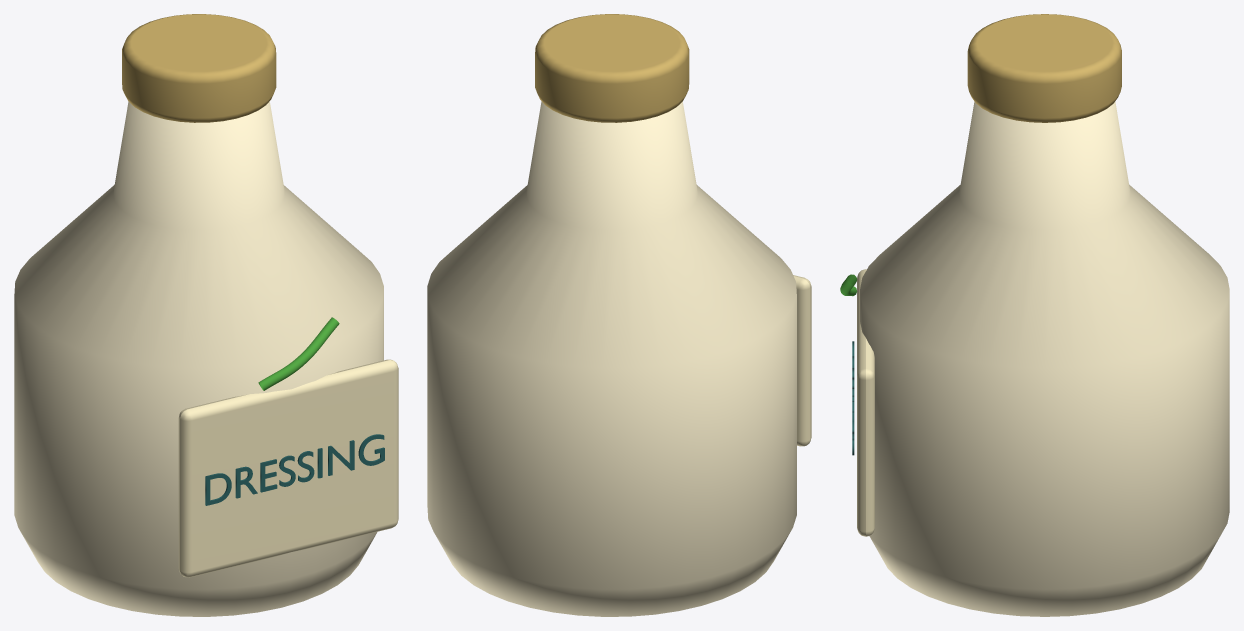
The model's file is dressing.glb.
The picture shows the model from 3 angles, left to right: view 1: azimuth 30°, elevation 25°; view 2: azimuth 150°, elevation 25°; view 3: azimuth 270°, elevation 25°; orthographic projection.
Parts seen in each view (by area): view 1: dressing_mesh; view 2: dressing_mesh; view 3: dressing_mesh.
Boxes of the visible parts, bbox=[...] form: dressing_mesh: bbox=[14, 14, 398, 616]; dressing_mesh: bbox=[427, 14, 811, 616]; dressing_mesh: bbox=[840, 14, 1229, 616].
Bounding box in the file's own units: 0.14 × 0.2106 × 0.1475.
